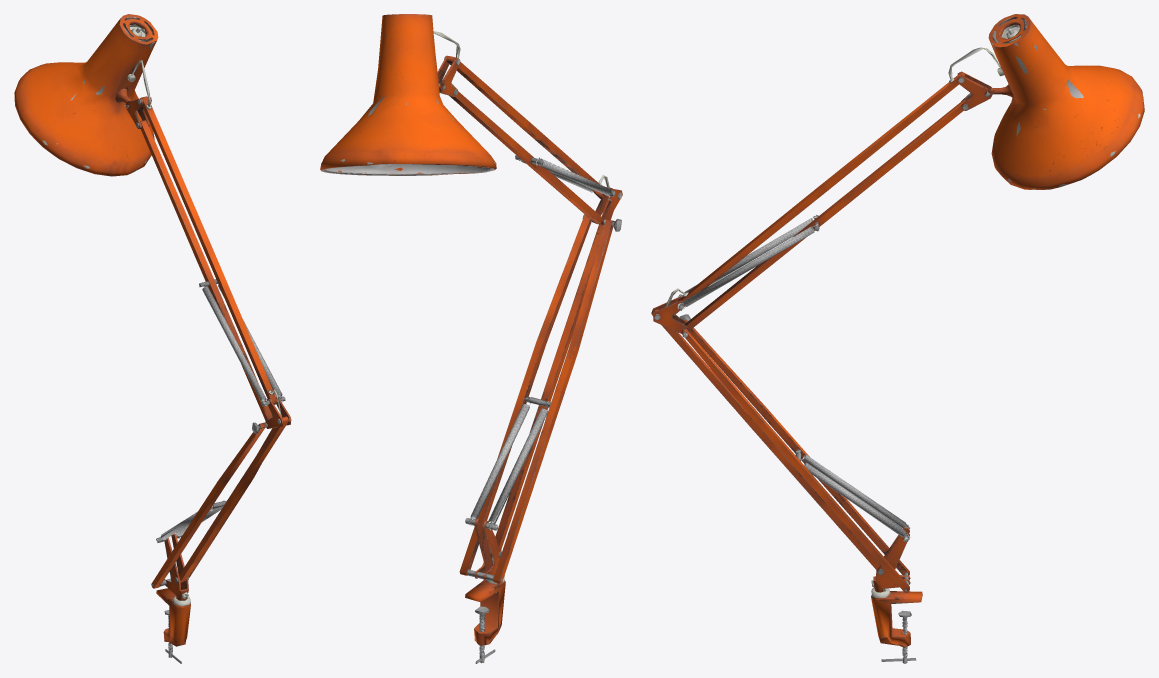
File: desk_lamp_arm_01.glb
The picture shows the model from 3 angles, left to right: view 1: azimuth 30°, elevation 25°; view 2: azimuth 150°, elevation 25°; view 3: azimuth 270°, elevation 25°; orthographic projection. The views are drawn at different scales.
Parts seen in each view (by area): view 1: desk_lamp_arm_01; view 2: desk_lamp_arm_01; view 3: desk_lamp_arm_01.
Part boxes in pixels (x1=…): desk_lamp_arm_01: x1=14, y1=14, x2=291, y2=663; desk_lamp_arm_01: x1=320, y1=14, x2=622, y2=663; desk_lamp_arm_01: x1=651, y1=14, x2=1144, y2=663.
Bounding box in the file's own units: 0.2013 × 0.8926 × 0.6131.
2 materials, 2 textured.
